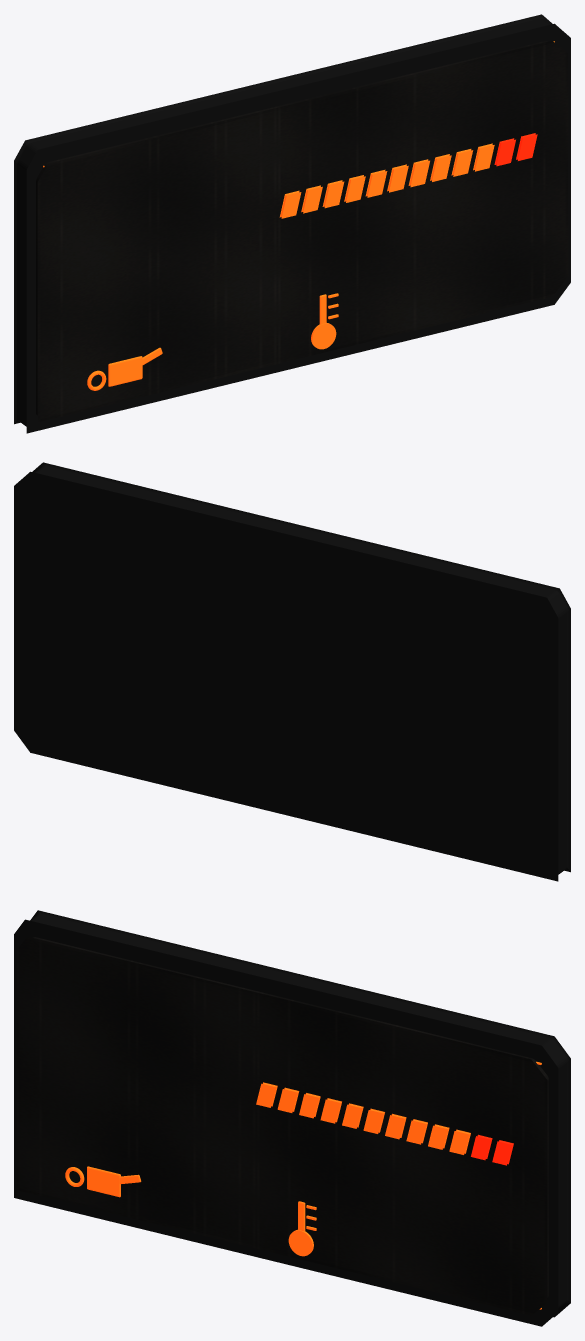
File: chevy-telemetry.glb
3 renders of one model, top to bottom at view 1: azimuth 30°, elevation 25°; view 2: azimuth 150°, elevation 25°; view 3: azimuth 330°, elevation 25°, orthographic.
Parts seen in each view (by area): view 1: Telemetry_Face, Telemetry_Backplate, OilIcon_Body, TemperatureIcon_Bulb; view 2: Telemetry_Backplate; view 3: Telemetry_Face, Telemetry_Backplate, OilIcon_Body, TemperatureIcon_Bulb.
Boxes of the visible parts, <box> form: Telemetry_Face: <box>36,40,568,422</box>; Telemetry_Backplate: <box>14,14,570,433</box>; OilIcon_Body: <box>108,356,142,386</box>; TemperatureIcon_Bulb: <box>311,323,336,349</box>; Telemetry_Backplate: <box>14,462,570,881</box>; Telemetry_Face: <box>16,936,548,1315</box>; Telemetry_Backplate: <box>14,910,570,1326</box>; OilIcon_Body: <box>87,1166,120,1197</box>; TemperatureIcon_Bulb: <box>288,1229,313,1256</box>.
Bounding box in the file's own units: 5.45 × 2.69 × 0.331.
Materials: 5 (1 with a texture image).
